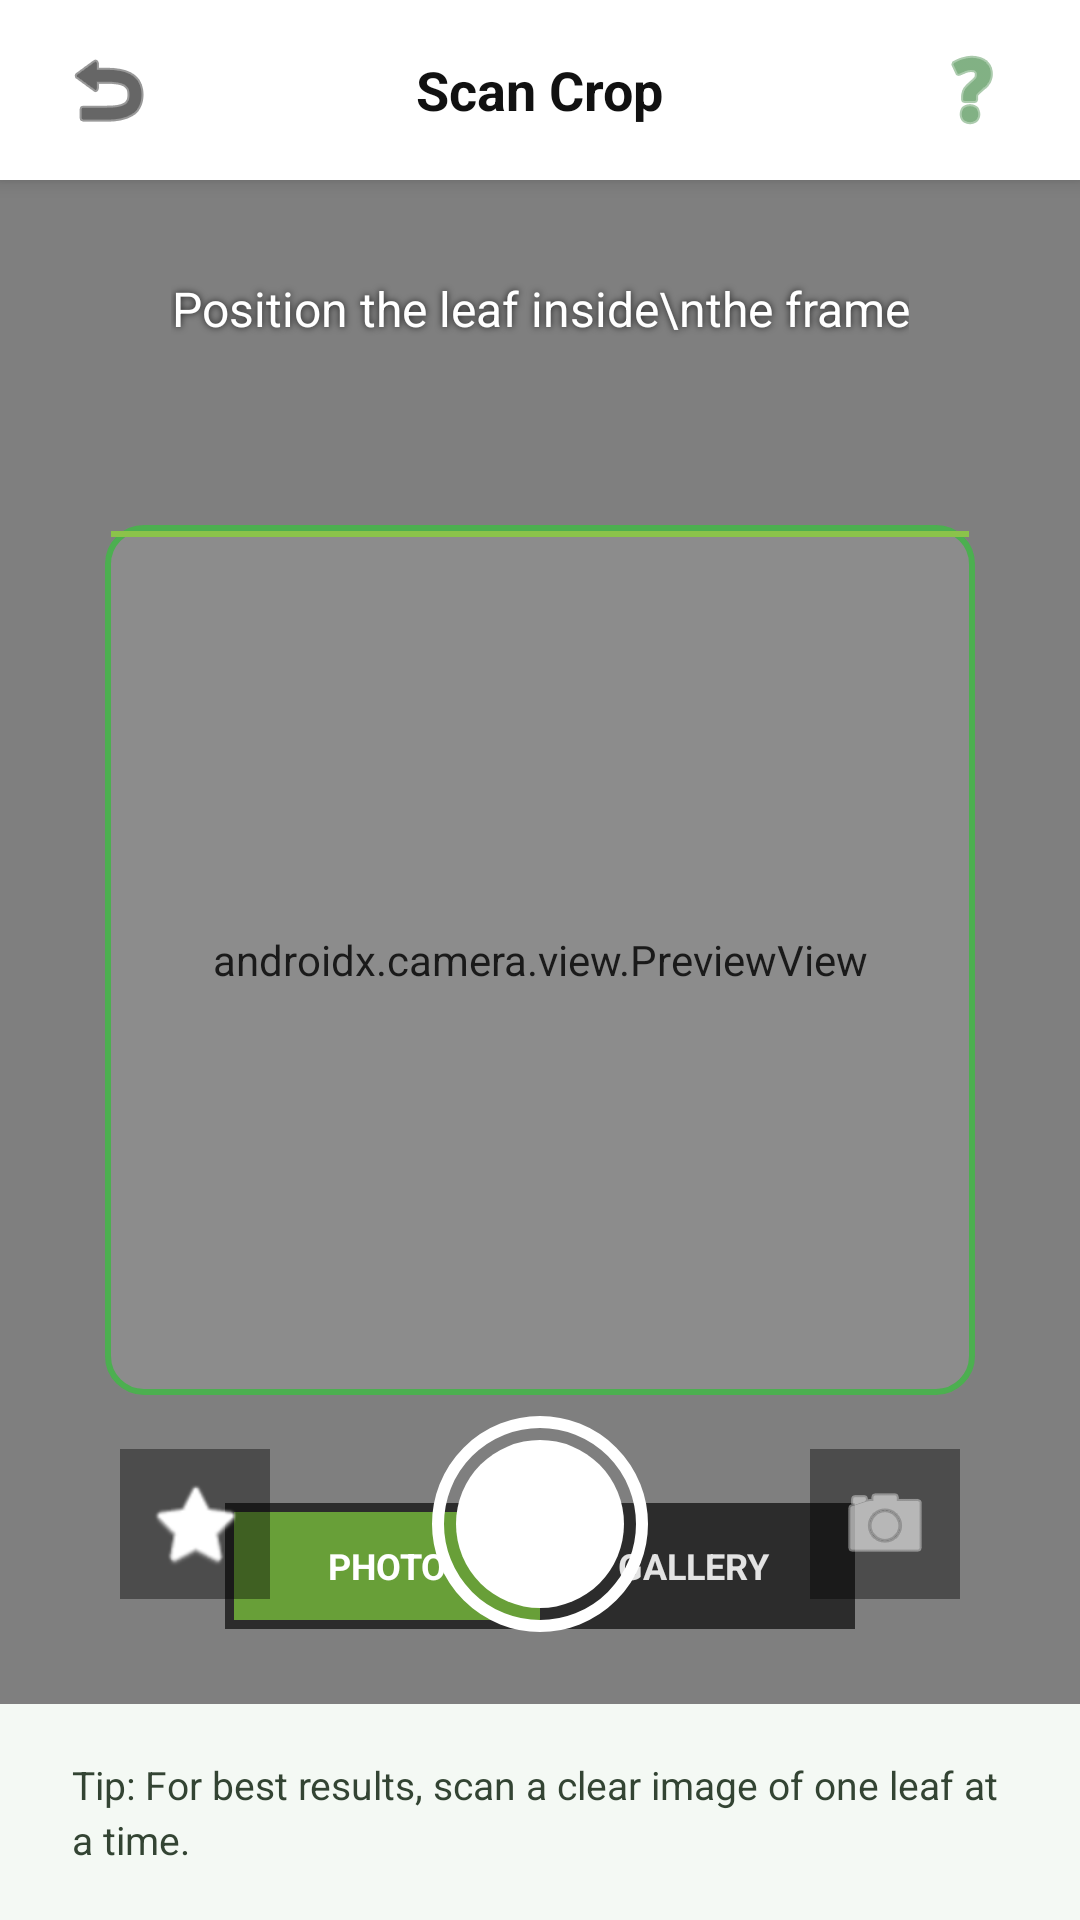

Screen size 1080×1920. Icon name, then its box in pixels as (x1, y1, x2, y2):
help: (951, 56, 993, 124)
revert: (75, 59, 144, 122)
